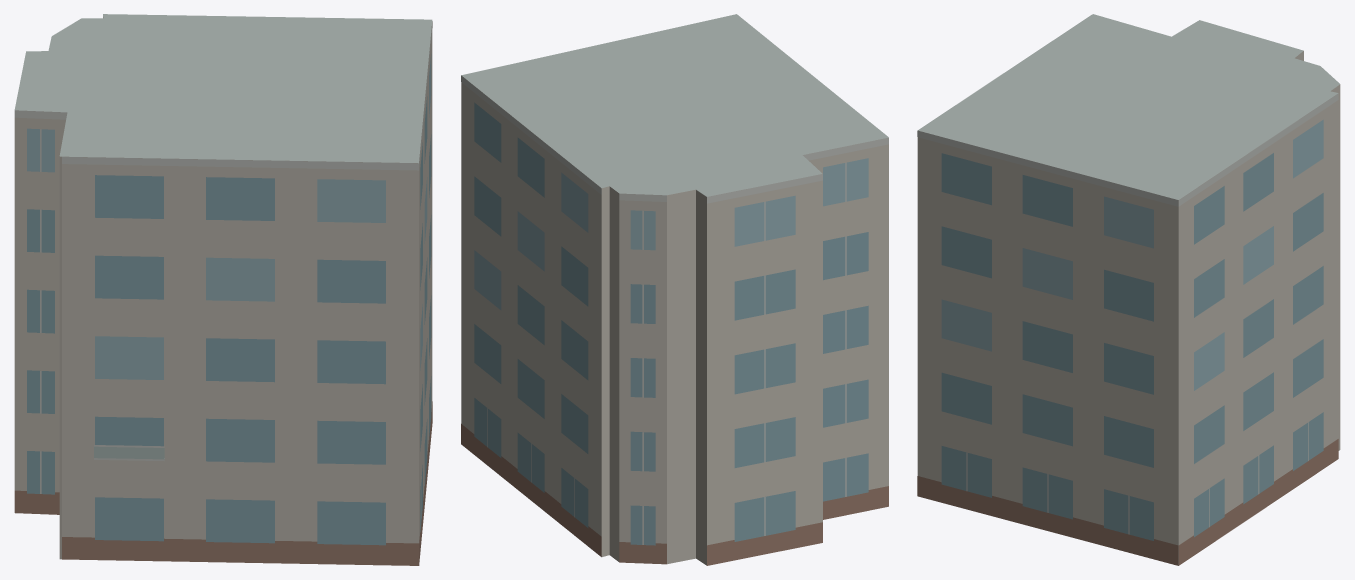
File: survey-upis-32904452.glb
3 views of the same model, side by side, from view 1: azimuth 30°, elevation 25°; view 2: azimuth 150°, elevation 25°; view 3: azimuth 270°, elevation 25° (orthographic). The views are drawn at different scales.
Parts seen in each view (by area): view 1: survey-upis-32904452.tmp; view 2: survey-upis-32904452.tmp; view 3: survey-upis-32904452.tmp.
Part boxes in pixels (x1,y1,x2,y2): survey-upis-32904452.tmp: [14, 14, 432, 565]; survey-upis-32904452.tmp: [461, 14, 888, 565]; survey-upis-32904452.tmp: [917, 14, 1340, 565].
Bounding box in the file's own units: 14.53 × 13.31 × 13.96.
